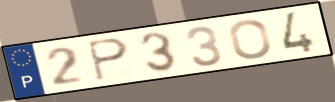2: (45, 45, 86, 88)
3: (138, 30, 179, 75), (185, 24, 224, 67)
4: (279, 9, 318, 55)
O: (227, 18, 274, 61)
P: (85, 36, 131, 83)
